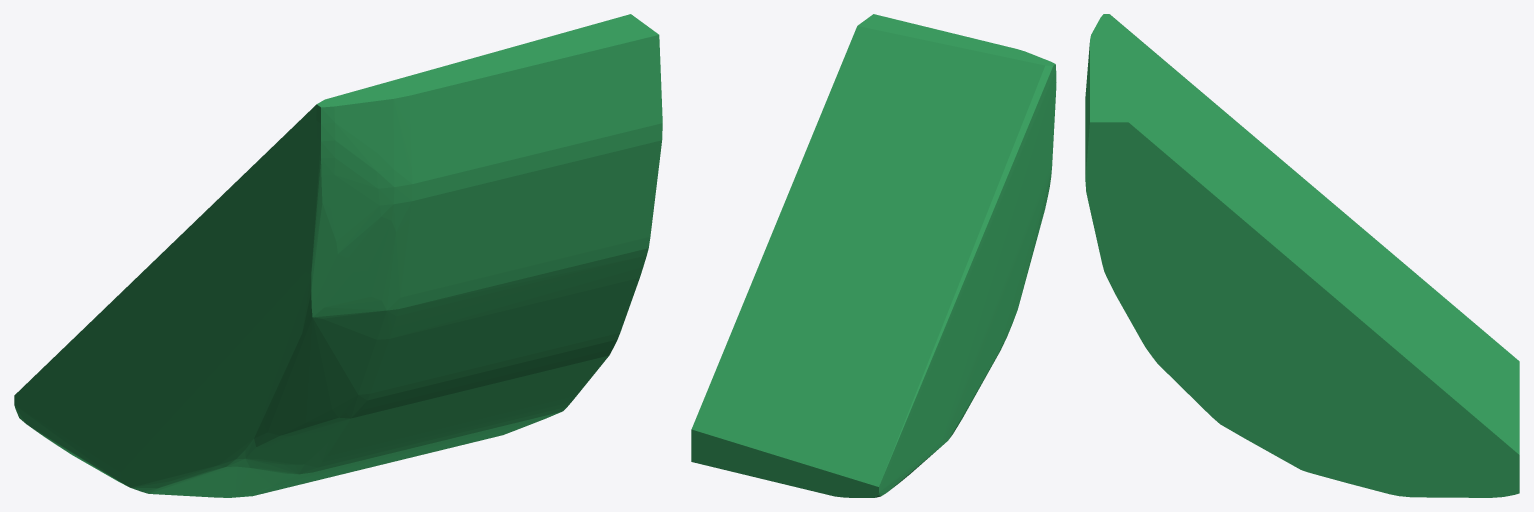
File: left_f_proximal_part_10.obj
3 renders of one model, left to right at view 1: azimuth 30°, elevation 25°; view 2: azimuth 150°, elevation 25°; view 3: azimuth 270°, elevation 25°, orthographic. The views are drawn at different scales.
Bounding box in the file's own units: 4.92 × 7.93 × 8.31.
